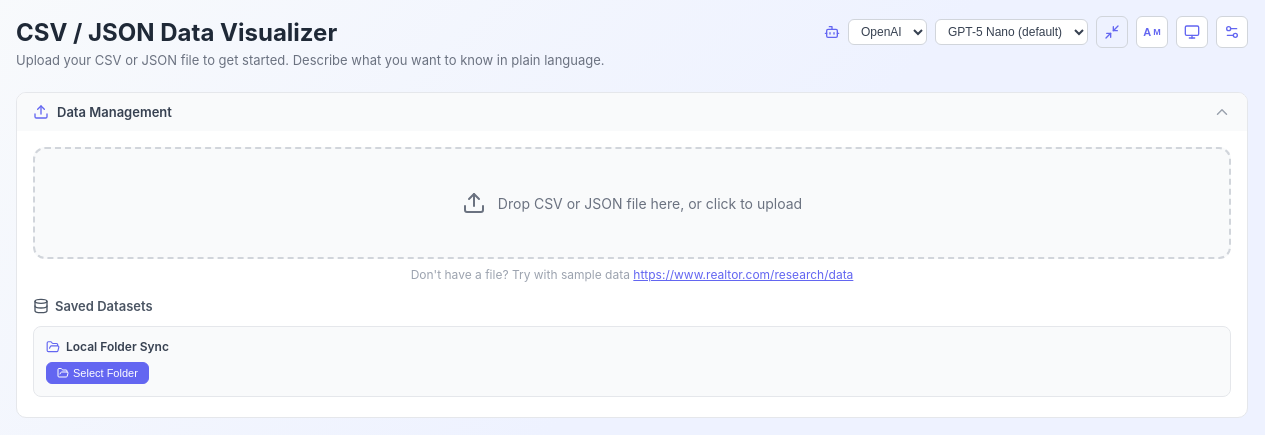
App UI › changes model options when switching AI provider
The width and height of the screenshot is (1265, 435).
Select "Gemini" in the 1st dropdown at (888, 32), box [848,19,927,45]
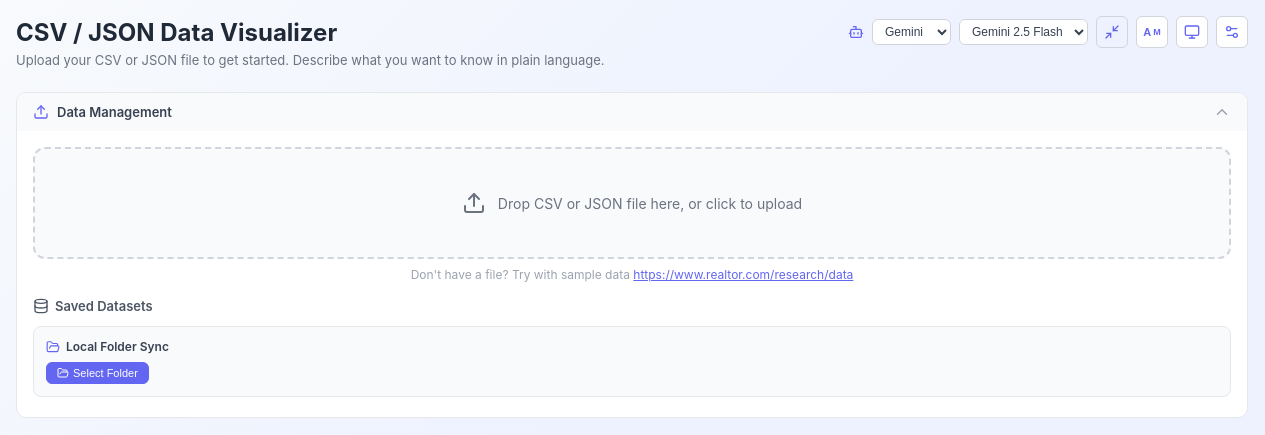
Expected: the 2nd dropdown shows "Gemini 2.5 Flash", [959,19,1088,45]
